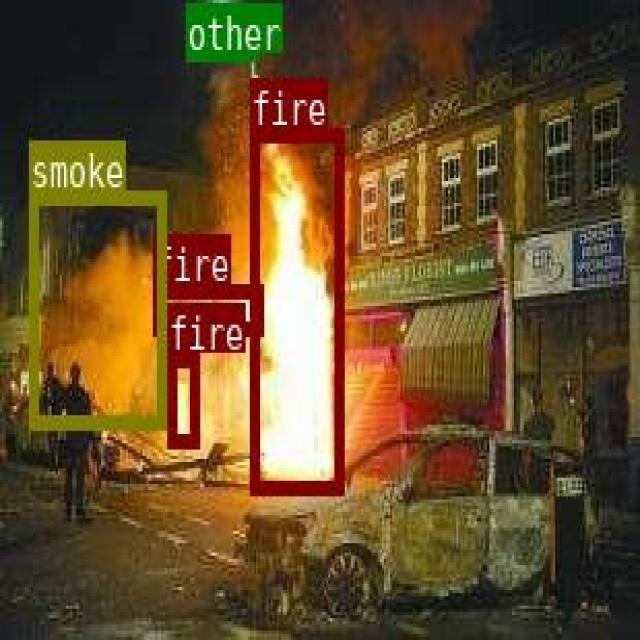fire: (249, 128, 342, 491), (152, 283, 260, 334), (166, 352, 196, 444)
smoke: (28, 188, 163, 426)
